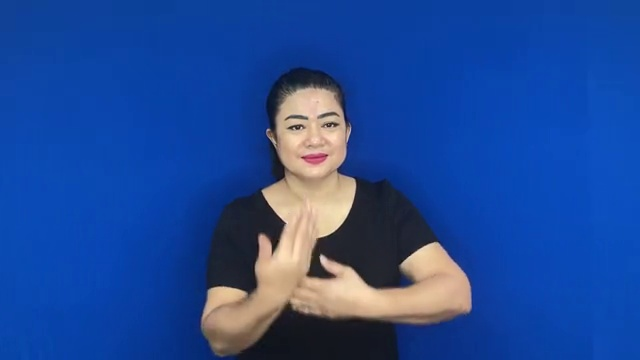bread: (242, 197, 369, 330)
